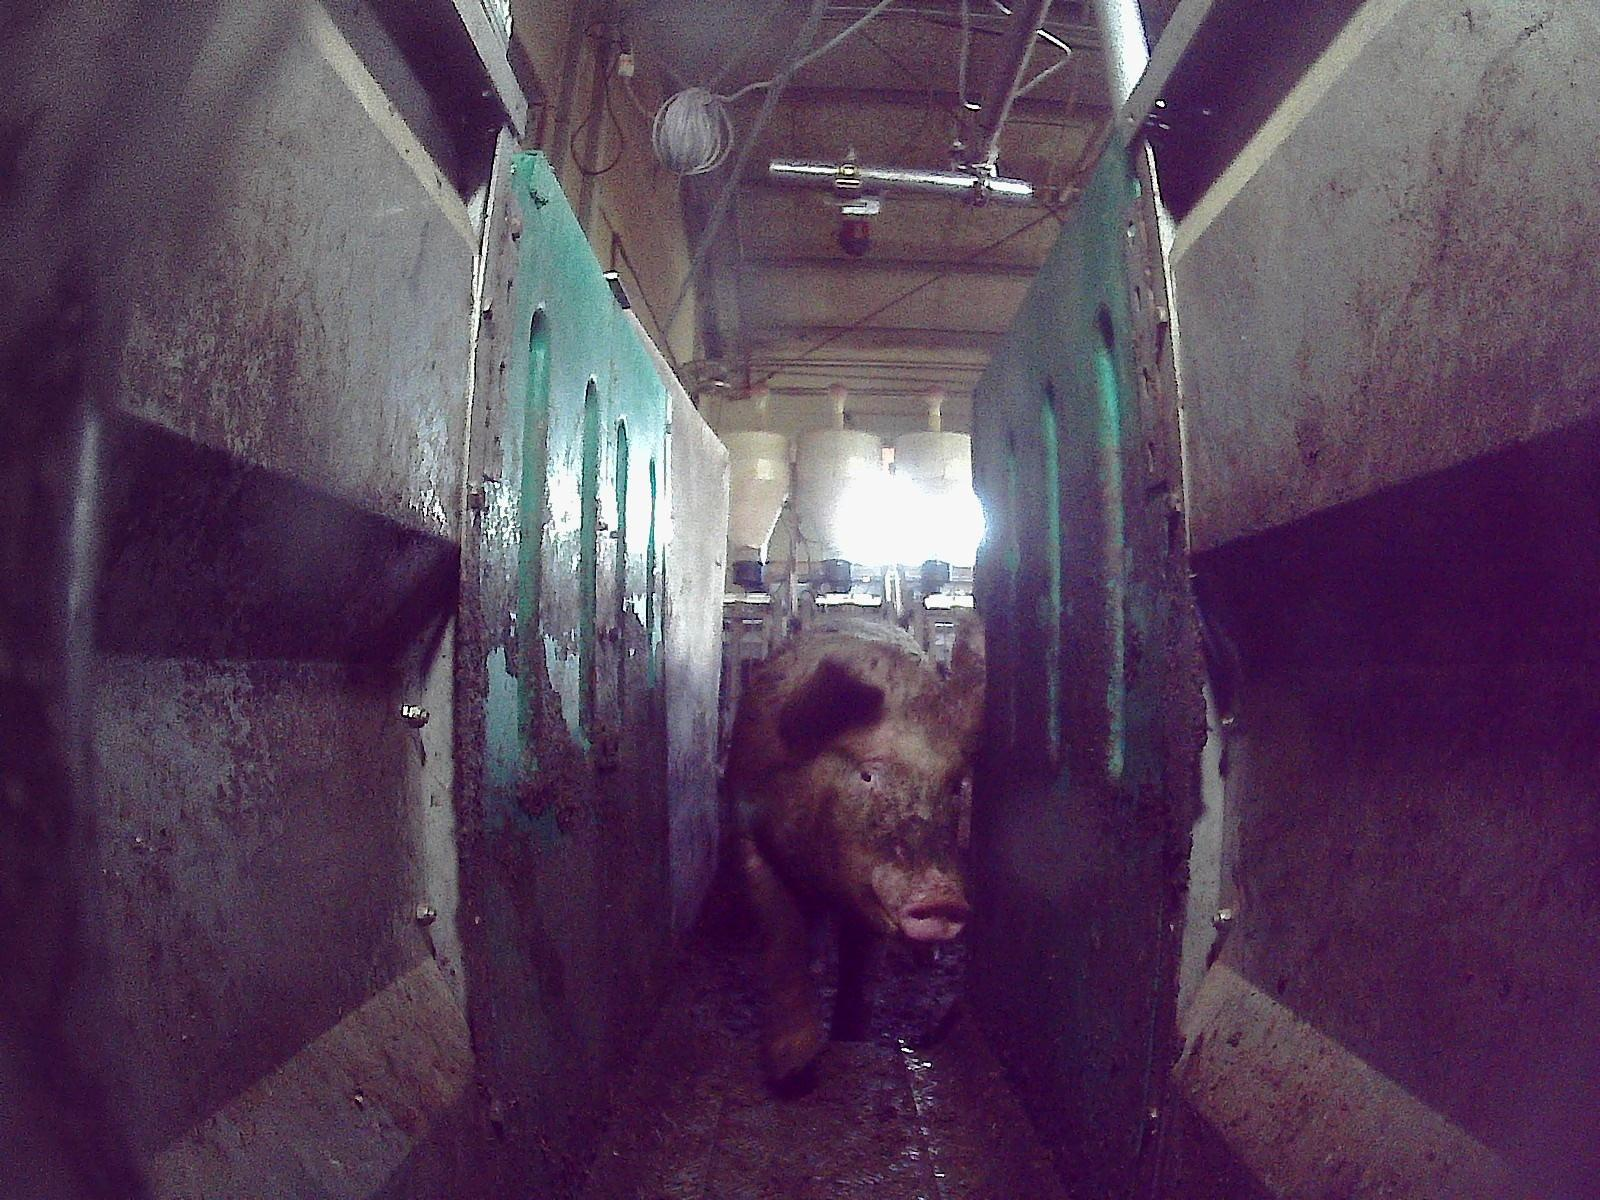Face: (810, 702, 971, 941)
